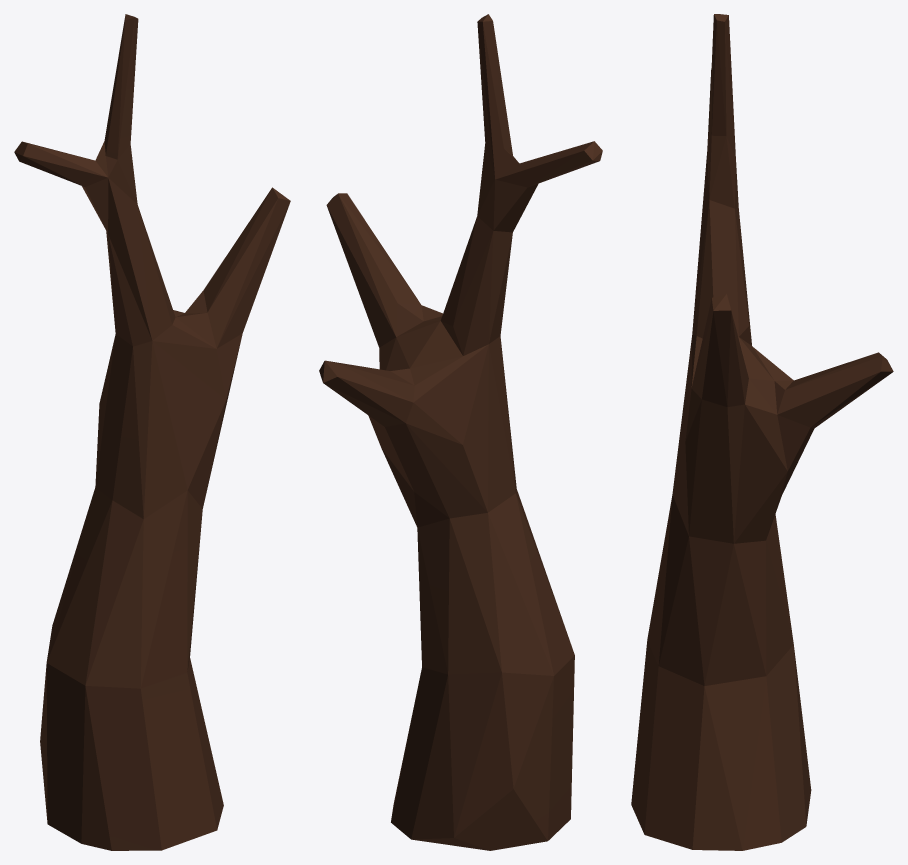
The model's file is 1Stad.fbx.
The picture shows the model from 3 angles, left to right: view 1: azimuth 30°, elevation 25°; view 2: azimuth 150°, elevation 25°; view 3: azimuth 270°, elevation 25°; orthographic projection.
Visible parts, largest first — view 1: Cube.013; view 2: Cube.013; view 3: Cube.013.
Part boxes in pixels (left/top/right/bottom): Cube.013: left=14, top=14, right=290, bottom=850; Cube.013: left=319, top=14, right=602, bottom=850; Cube.013: left=631, top=14, right=893, bottom=850.
Bounding box in the file's own units: 19.95 × 56.56 × 16.87.
